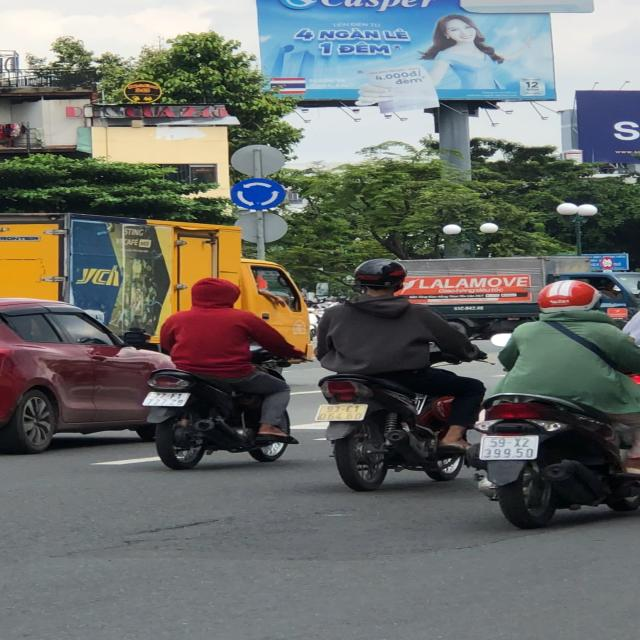Bien bao noi giao nhau chay theo vong xuyen: (226, 178, 298, 211)
